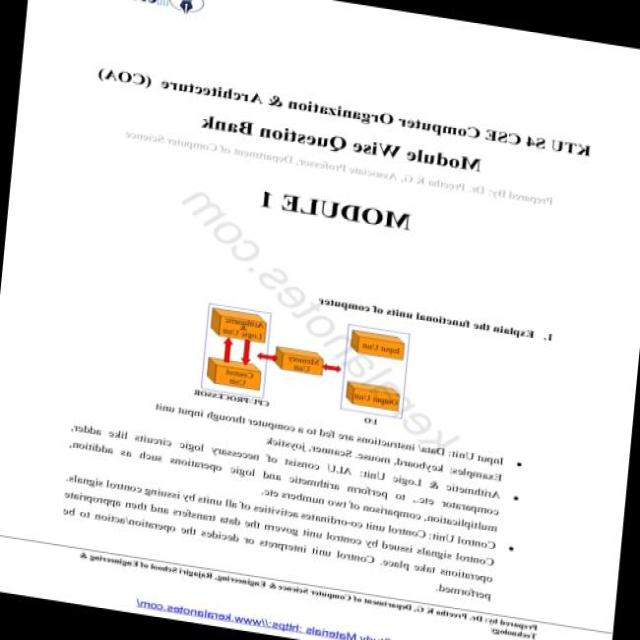Figure Detection - v3 Dataset Version2: (186, 289, 420, 437)
